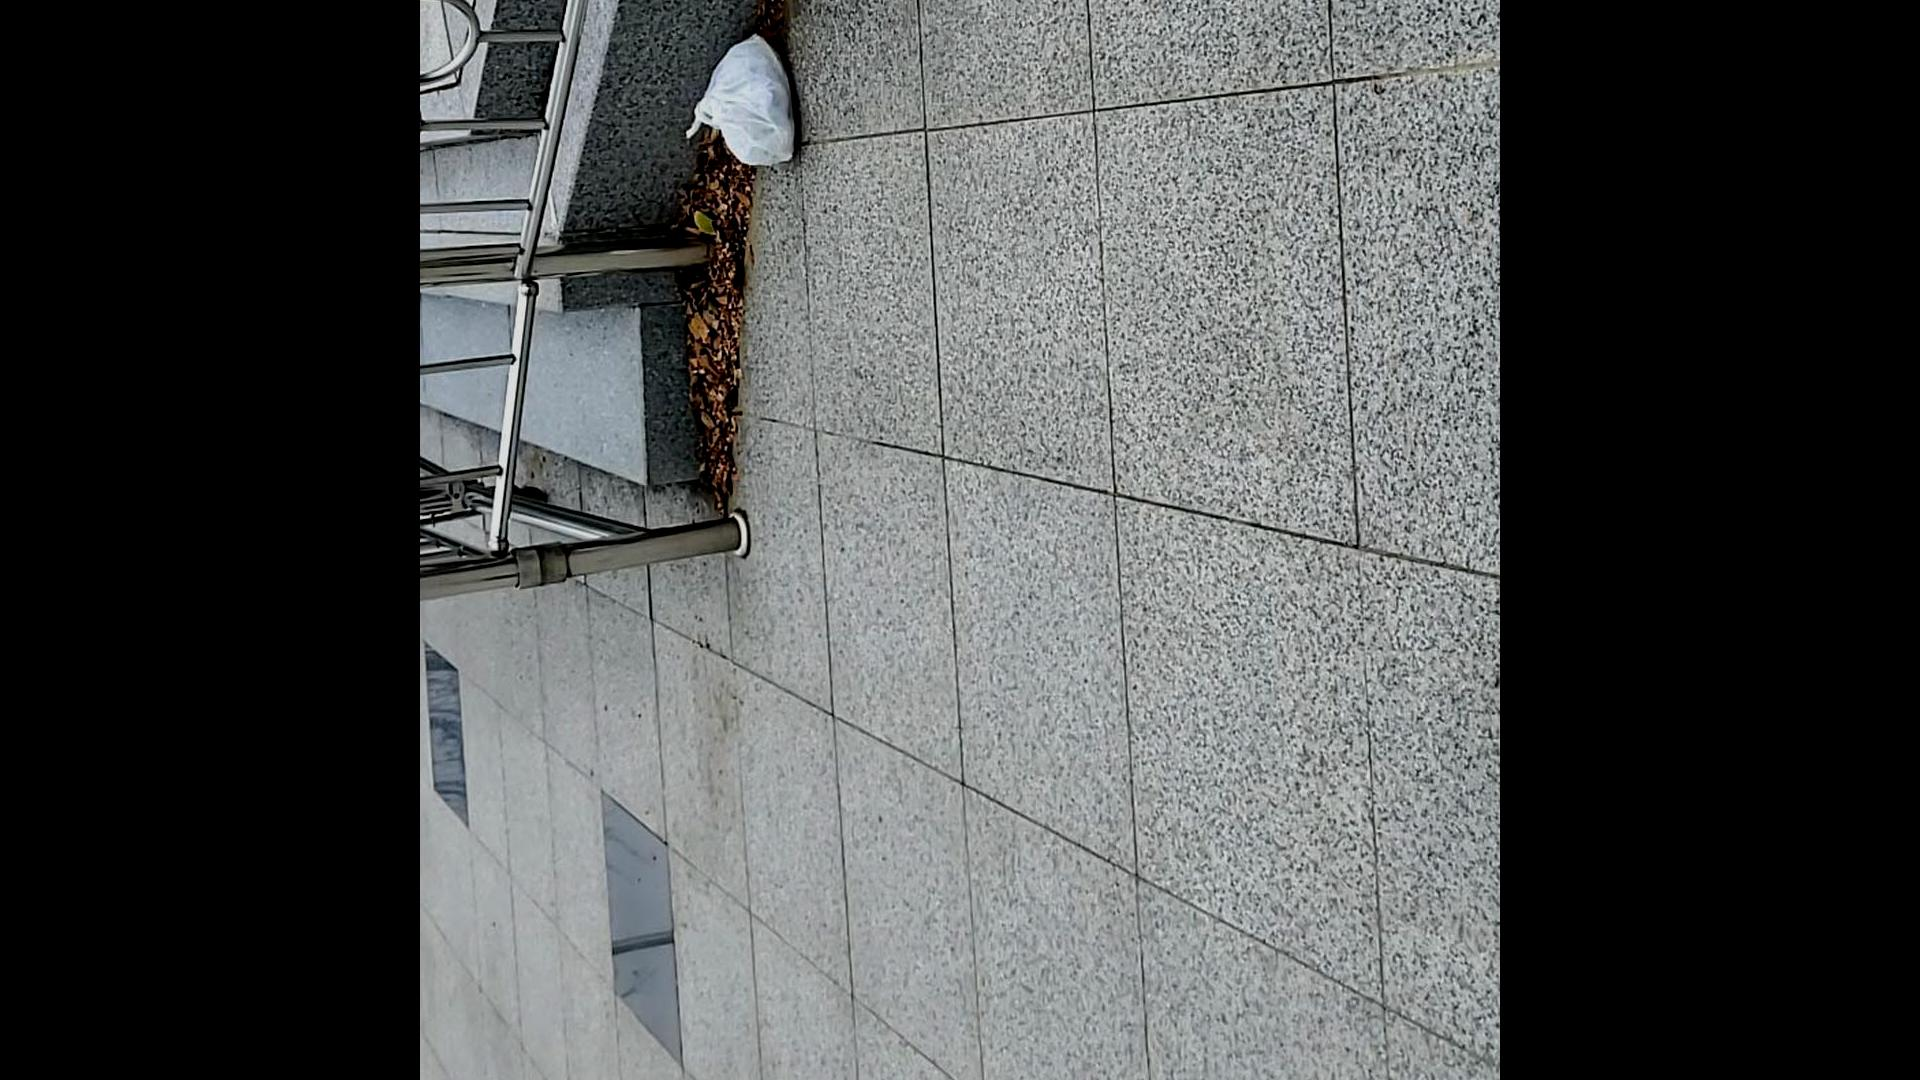white_bag: (674, 22, 808, 195)
